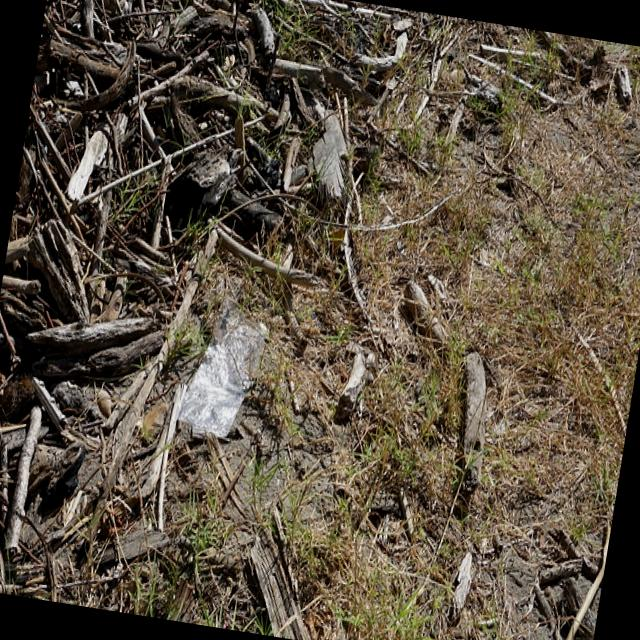Recycle: (182, 295, 272, 454)
